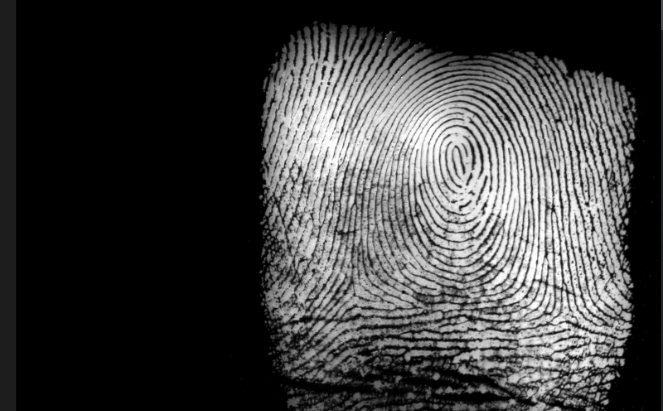deltas: (533, 281, 589, 333), (331, 259, 383, 311)
nucleo: (431, 139, 482, 185)
